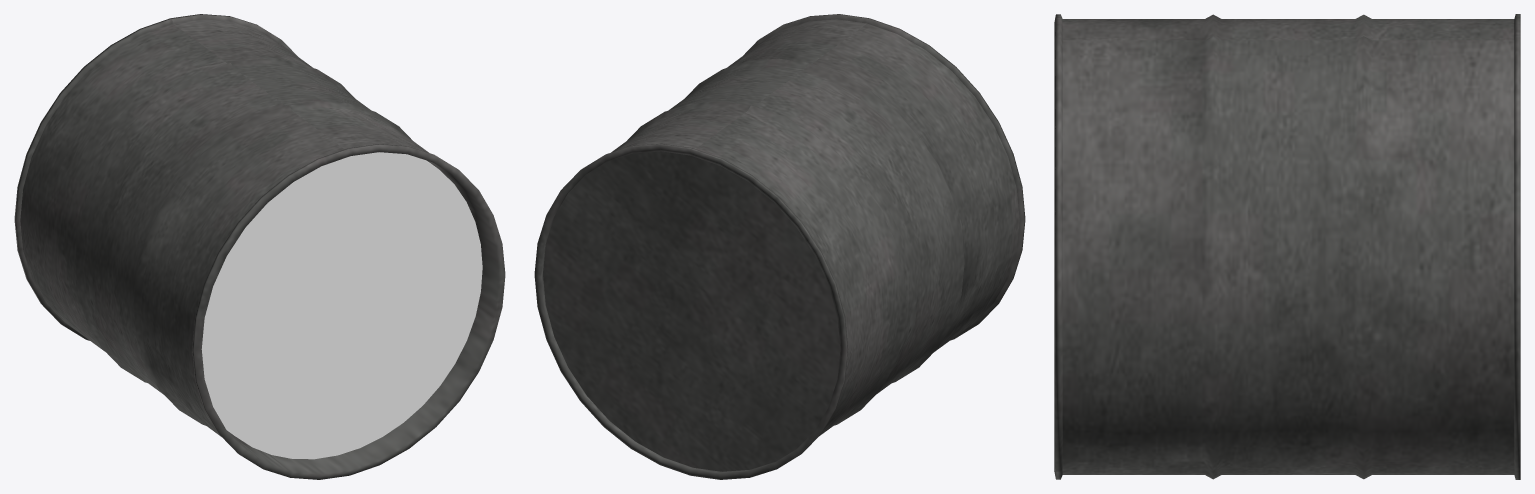
Rendered from kautschuk.gltf.
3 renders of one model, left to right at view 1: azimuth 30°, elevation 25°; view 2: azimuth 150°, elevation 25°; view 3: azimuth 270°, elevation 25°, orthographic. The views are drawn at different scales.
Parts seen in each view (by area): view 1: Barrel_Metal, Cylinder; view 2: Barrel_Metal; view 3: Barrel_Metal.
Boxes of the visible parts, x1=… form: Barrel_Metal: x1=14, y1=14, x2=505, y2=479; Cylinder: x1=201, y1=152, x2=482, y2=459; Barrel_Metal: x1=534, y1=14, x2=1025, y2=479; Barrel_Metal: x1=1054, y1=14, x2=1520, y2=479.
Size of the model in its own units: 0.3 by 0.3 by 0.3.
2 materials, 1 textured.
